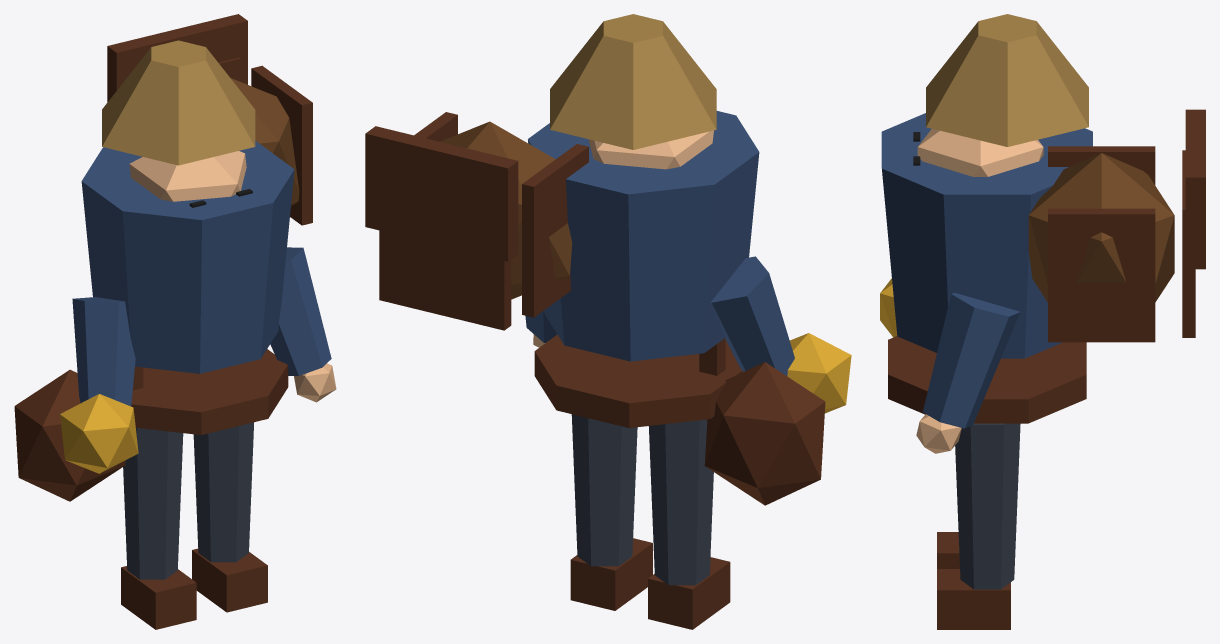
File: npcpose_merchant_greet_12.glb
The picture shows the model from 3 angles, left to right: view 1: azimuth 30°, elevation 25°; view 2: azimuth 150°, elevation 25°; view 3: azimuth 270°, elevation 25°; orthographic projection. The views are drawn at different scales.
Visible parts, largest first — view 1: npcpose; view 2: npcpose; view 3: npcpose.
Boxes of the visible parts, x1,y1,x2,y2 form: npcpose: (14, 14, 336, 629); npcpose: (365, 14, 851, 629); npcpose: (880, 14, 1205, 629).
Bounding box in the file's own units: 1.2 × 1.88 × 0.9691.
